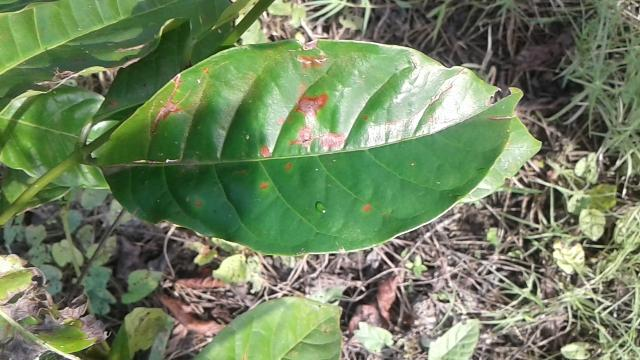red_spider_mite: (101, 42, 519, 253)
